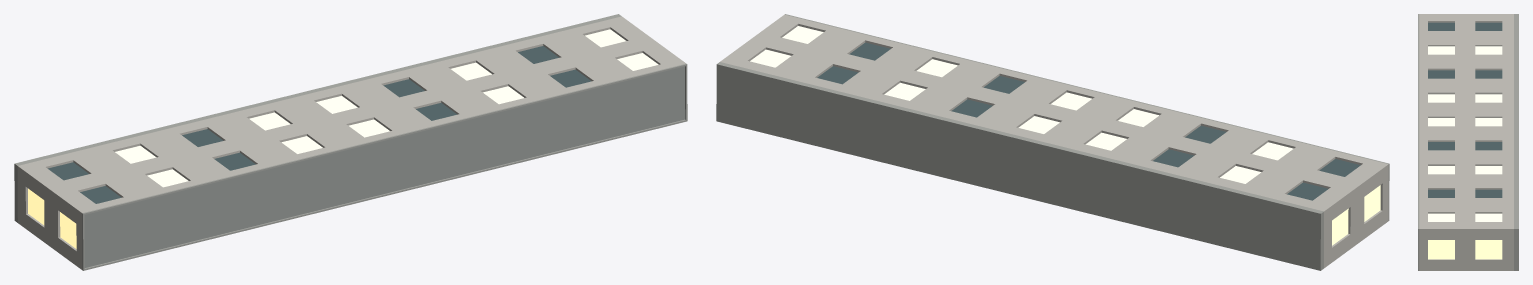
The model's file is neutral-mid.glb.
3 renders of one model, left to right at view 1: azimuth 30°, elevation 25°; view 2: azimuth 150°, elevation 25°; view 3: azimuth 270°, elevation 25°, orthographic. The views are drawn at different scales.
Visible parts, largest first — view 1: way/504996495; view 2: way/504996495; view 3: way/504996495.
Boxes of the visible parts, bbox=[...] form: way/504996495: bbox=[14, 14, 687, 270]; way/504996495: bbox=[716, 14, 1389, 270]; way/504996495: bbox=[1418, 14, 1518, 270].
Bounding box in the file's own units: 64.87 × 6.09 × 12.76.
